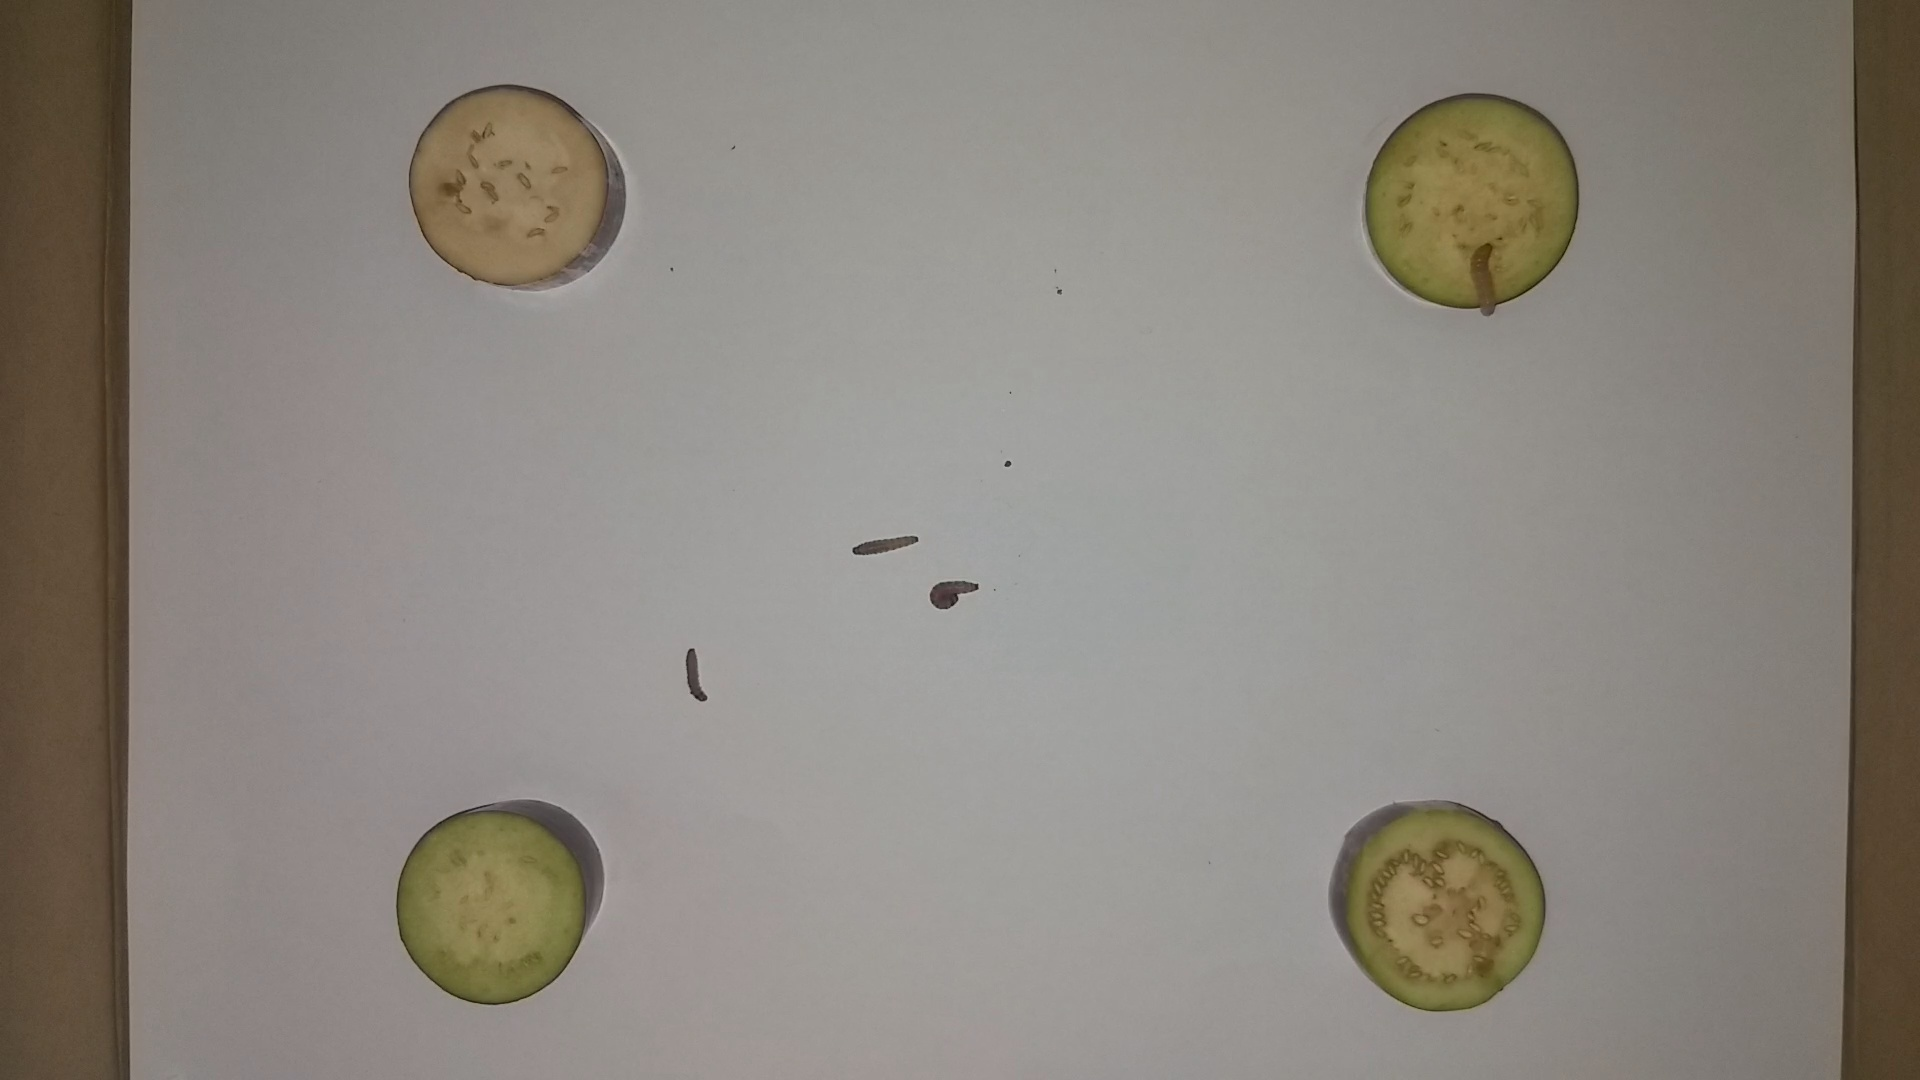efsb: (1461, 232, 1502, 320), (844, 524, 928, 560), (676, 646, 717, 705), (927, 575, 988, 612)
eggplant: (1353, 86, 1589, 319), (1327, 790, 1557, 1021), (401, 76, 637, 301), (388, 794, 607, 1010)
